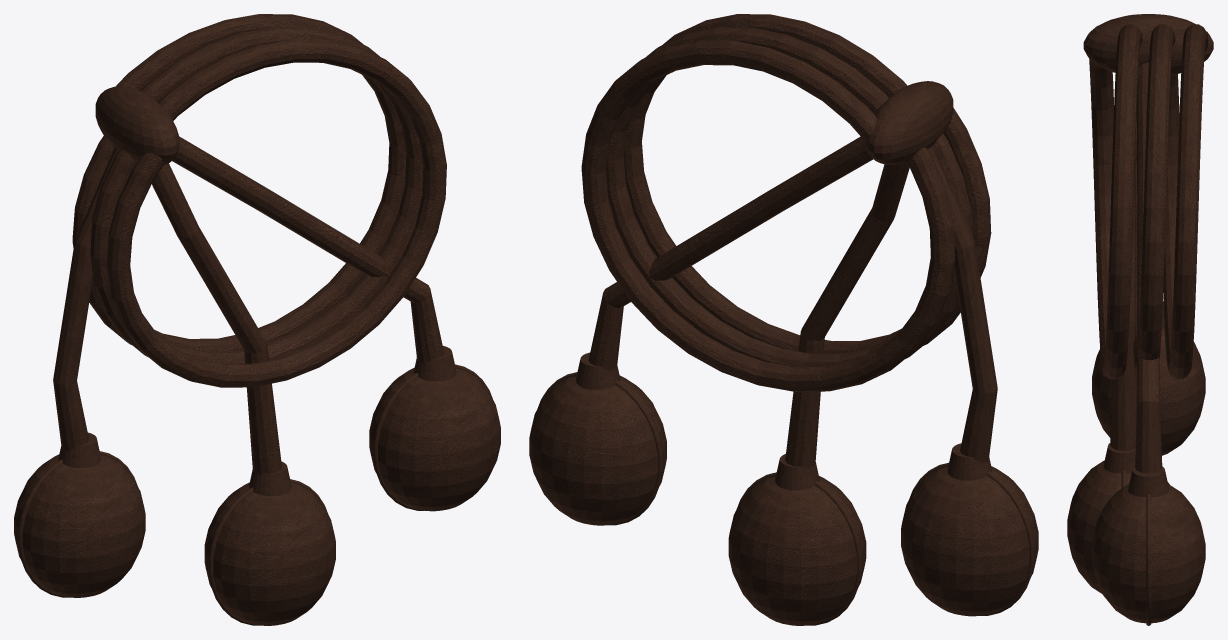
File: bolas.obj
The picture shows the model from 3 angles, left to right: view 1: azimuth 30°, elevation 25°; view 2: azimuth 150°, elevation 25°; view 3: azimuth 270°, elevation 25°; orthographic projection. The views are drawn at different scales.
Parts seen in each view (by area): view 1: coil, weight0, weight2, weight1, thong2, thong1, thong0, knot, seam1, binding1, seam2, seam0 (+2 smaller); view 2: coil, weight1, weight2, weight0, thong2, thong1, thong0, knot, seam0, binding1, seam2, seam1 (+2 smaller); view 3: coil, weight2, thong2, weight0, weight1, knot, thong1, binding2, seam2, binding1.
Boxes of the visible parts, x1,y1,x2,y2 form: coil: (72,14,446,387); weight0: (14,454,145,597); weight2: (369,367,500,511); weight1: (204,482,335,625); thong2: (172,136,444,363); thong1: (152,163,281,474); thong0: (53,147,118,451); knot: (95,86,179,164); seam1: (208,479,327,625); binding1: (249,461,291,496); seam2: (373,364,492,510); seam0: (18,451,137,597); coil: (581,14,991,391); weight1: (728,476,866,625); weight2: (529,375,666,525); weight0: (901,466,1038,616); thong2: (588,136,873,371); thong1: (785,162,909,468); thong0: (928,146,997,463); knot: (865,81,953,165); seam0: (909,462,1034,615); binding1: (775,454,819,490); seam2: (537,372,662,525); seam1: (737,472,861,625); coil: (1089,24,1208,379); weight2: (1092,484,1205,623); thong2: (1135,62,1162,473); weight0: (1092,329,1205,455); weight1: (1067,460,1169,593); knot: (1083,14,1213,75); thong1: (1110,117,1137,450); binding2: (1128,466,1169,496); seam2: (1146,494,1151,625); binding1: (1103,443,1135,473).
Size of the model in its own units: 71 by 82.08 by 19.68.
1 material, 1 textured.
